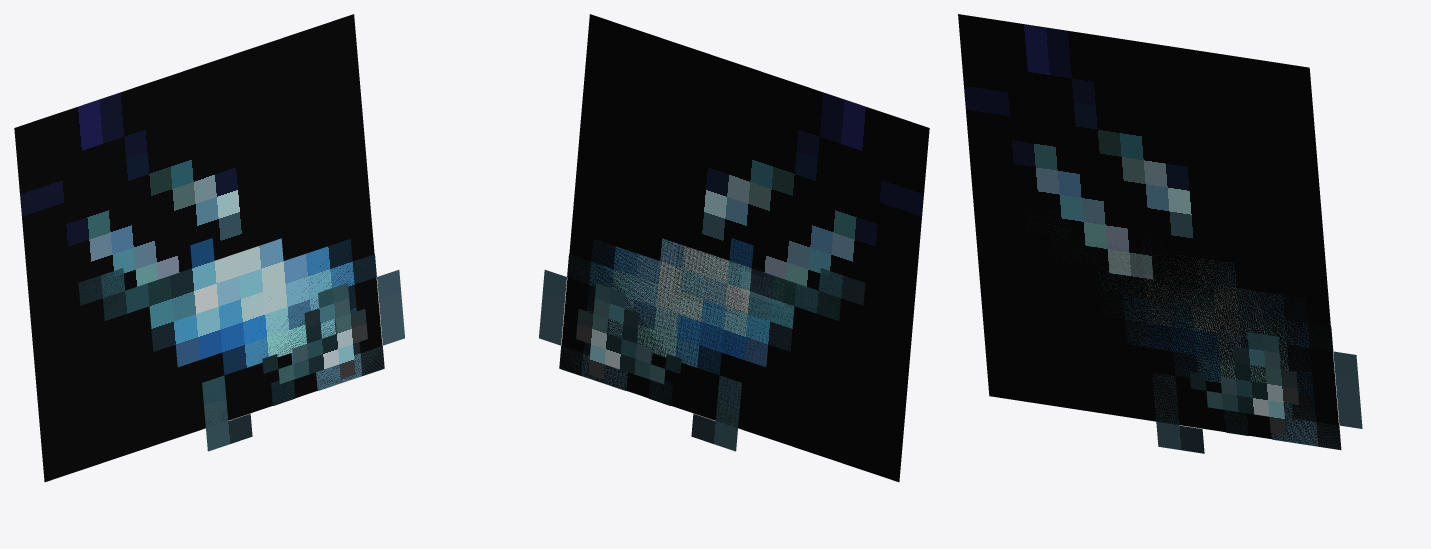
File: awakened_lichblade.gltf
The picture shows the model from 3 angles, left to right: view 1: azimuth 30°, elevation 25°; view 2: azimuth 150°, elevation 25°; view 3: azimuth 330°, elevation 25°; orthographic projection. The views are drawn at different scales.
Parts seen in each view (by area): view 1: cube (×3); view 2: cube (×3); view 3: cube (×3).
Part boxes in pixels (x1,y1,x2,y2): cube (×3): (14, 14, 404, 482); cube (×3): (539, 14, 929, 482); cube (×3): (958, 14, 1362, 453).
Bounding box in the file's own units: 0.4631 × 0.4581 × 0.0438.
Materials: 3 (3 with a texture image).
